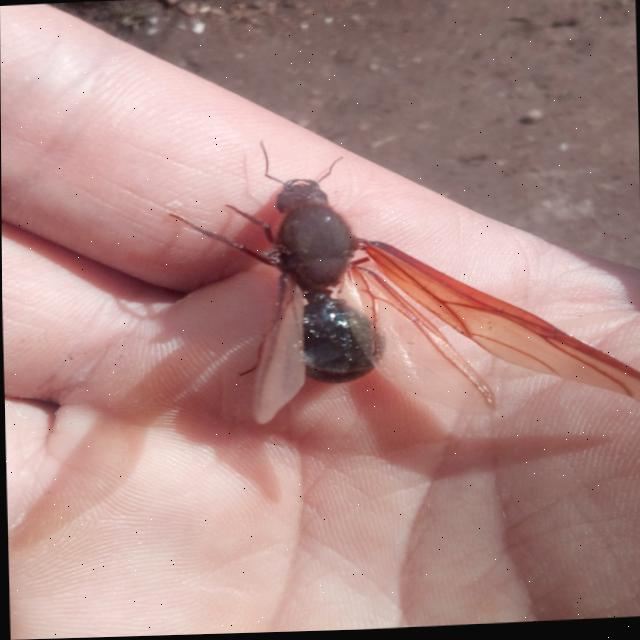Alive-Female-Alate: (166, 125, 640, 440)
